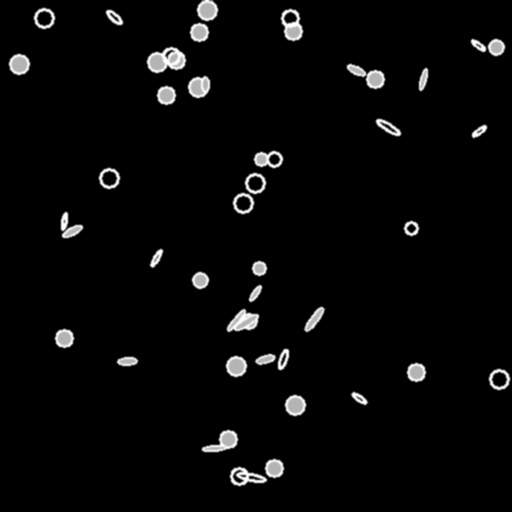pseudomonas: (303, 306, 325, 332), (225, 308, 247, 332), (233, 313, 259, 331), (375, 118, 401, 136), (236, 471, 266, 483), (105, 8, 123, 26), (276, 348, 290, 370), (346, 63, 366, 77), (62, 224, 82, 238), (149, 249, 163, 267), (255, 353, 275, 365), (248, 285, 262, 301), (351, 391, 367, 405), (471, 124, 487, 138), (470, 38, 486, 52), (418, 68, 428, 90), (60, 212, 68, 230), (203, 445, 225, 451), (118, 358, 136, 364), (202, 76, 208, 92)
synechocystis: (100, 169, 118, 187), (35, 9, 53, 27), (189, 78, 207, 96), (148, 53, 166, 71), (198, 1, 216, 19), (286, 396, 304, 414), (490, 370, 508, 388), (234, 194, 252, 212), (227, 357, 245, 375), (10, 55, 28, 73), (246, 174, 264, 192), (220, 431, 236, 447), (168, 52, 184, 68), (285, 23, 301, 39), (367, 71, 383, 87), (163, 48, 179, 64), (158, 87, 174, 103), (282, 10, 298, 26), (266, 460, 282, 476), (191, 24, 207, 40), (231, 468, 247, 484), (408, 364, 424, 380), (56, 330, 72, 346), (489, 40, 503, 54), (193, 273, 207, 287), (242, 314, 256, 328), (267, 152, 281, 166), (405, 222, 417, 234), (253, 262, 265, 274), (255, 153, 267, 165)
